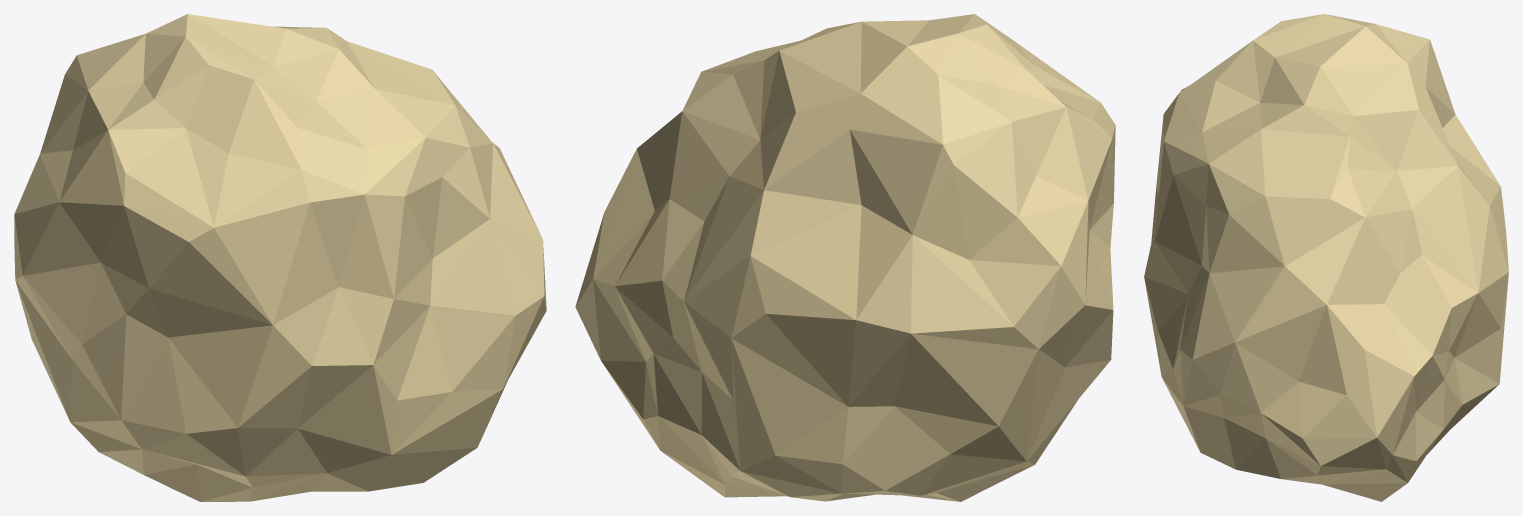
File: Asteroid (124).fbx
3 views of the same model, side by side, from view 1: azimuth 30°, elevation 25°; view 2: azimuth 150°, elevation 25°; view 3: azimuth 270°, elevation 25° (orthographic). The views are drawn at different scales.
Parts seen in each view (by area): view 1: Asteroid168; view 2: Asteroid168; view 3: Asteroid168.
Part boxes in pixels (x1,y1,x2,y2): Asteroid168: (14, 14, 546, 501); Asteroid168: (575, 14, 1115, 501); Asteroid168: (1144, 14, 1508, 501).
Bounding box in the file's own units: 314 × 293 × 238.
